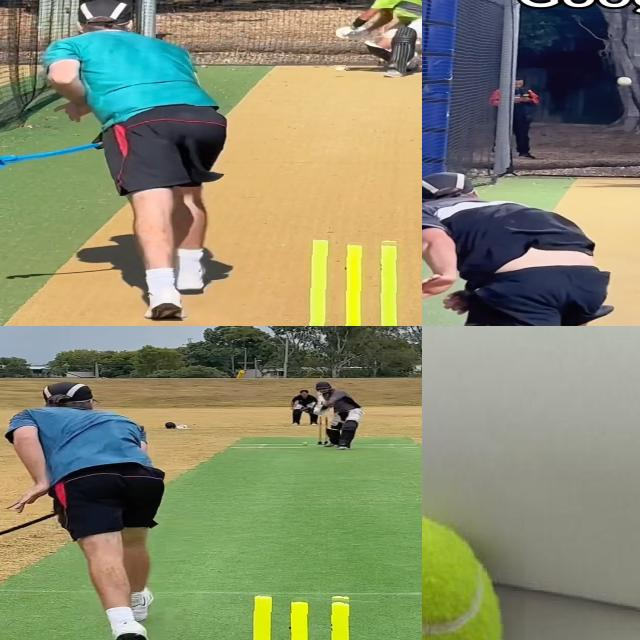Cricket ball: (422, 495, 525, 640), (616, 76, 633, 87), (334, 66, 346, 74), (301, 440, 311, 447)
Stumps: (307, 236, 410, 326), (234, 592, 377, 640), (318, 414, 334, 445)
